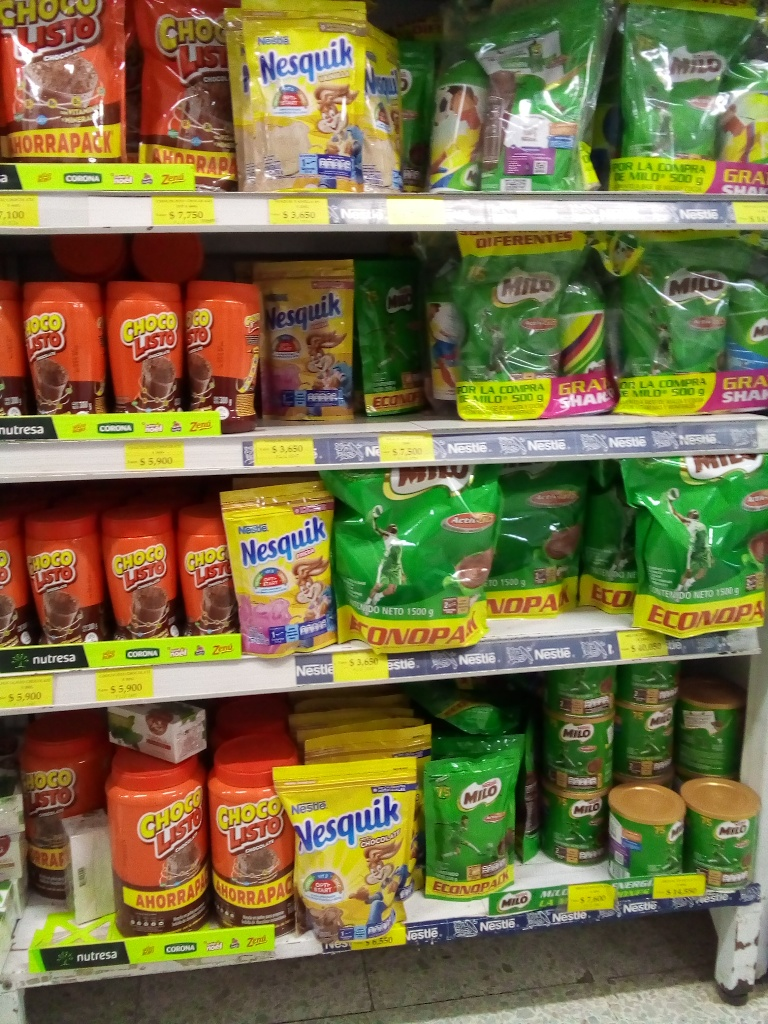COL0170103DYP44000: (0, 2, 130, 163)
COL0170103TRR00100: (103, 750, 208, 933)
COL0170103TRR30000: (23, 281, 104, 416)
COL0170203DYP25000: (426, 753, 538, 910)
COL0170203DYP50000: (462, 238, 570, 417)
COL0170203LAT40000: (548, 664, 615, 711)
COL0170305DYP20000: (222, 485, 347, 649)
COL0170306DYP20000: (232, 0, 366, 191)
